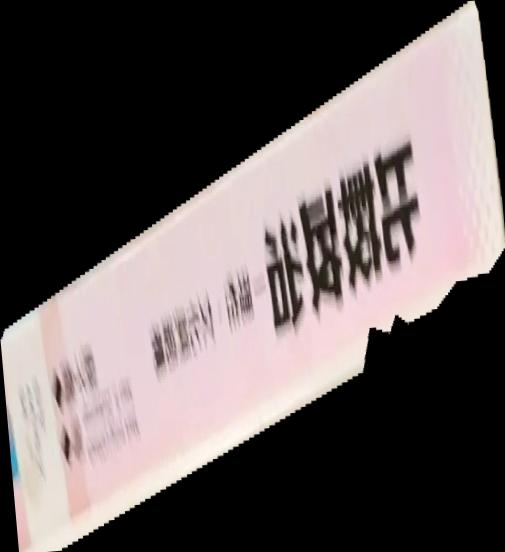flat: (1, 1, 505, 552)
